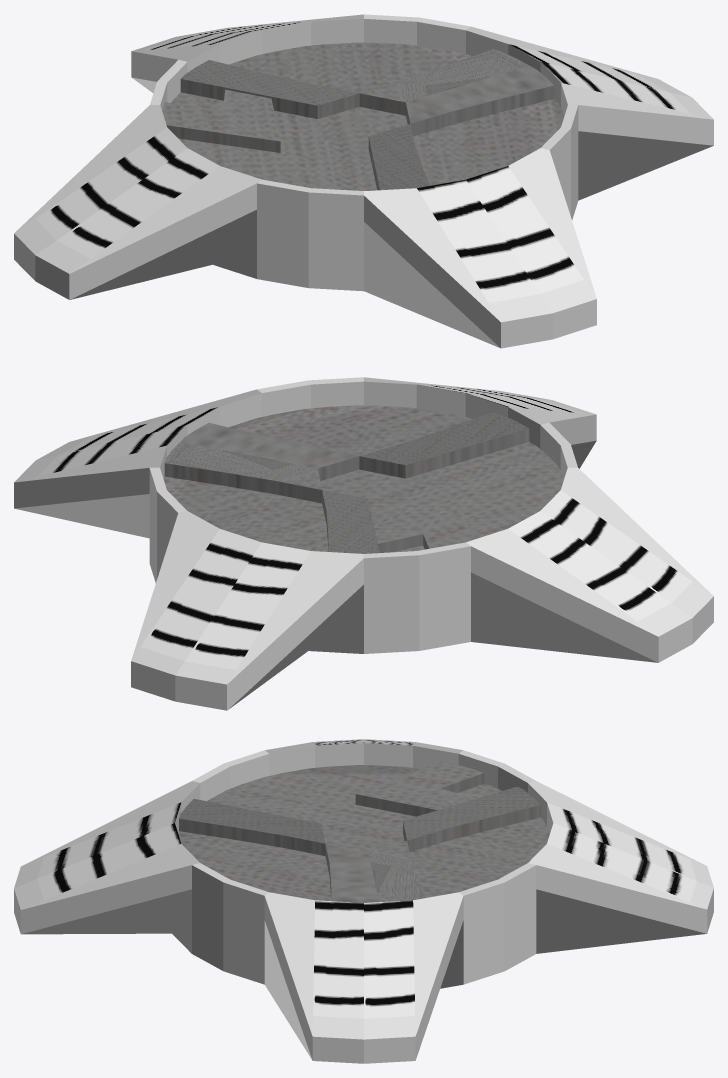
File: plataforma.obj
The picture shows the model from 3 angles, top to bottom: view 1: azimuth 30°, elevation 25°; view 2: azimuth 150°, elevation 25°; view 3: azimuth 270°, elevation 25°; orthographic projection. The views are drawn at different scales.
Visible parts, largest first — view 1: pDisc1, pDisc3; view 2: pDisc1, pDisc3; view 3: pDisc1, pDisc3.
Part boxes in pixels (left/top/right/bottom): pDisc1: left=14, top=14, right=713, bottom=348; pDisc3: left=162, top=42, right=564, bottom=190; pDisc1: left=14, top=377, right=713, bottom=710; pDisc3: left=163, top=405, right=563, bottom=553; pDisc1: left=14, top=739, right=713, bottom=1063; pDisc3: left=178, top=762, right=549, bottom=902.
Size of the model in its own units: 6.02 by 0.8673 by 5.98.
Materials: 2 (2 with a texture image).
